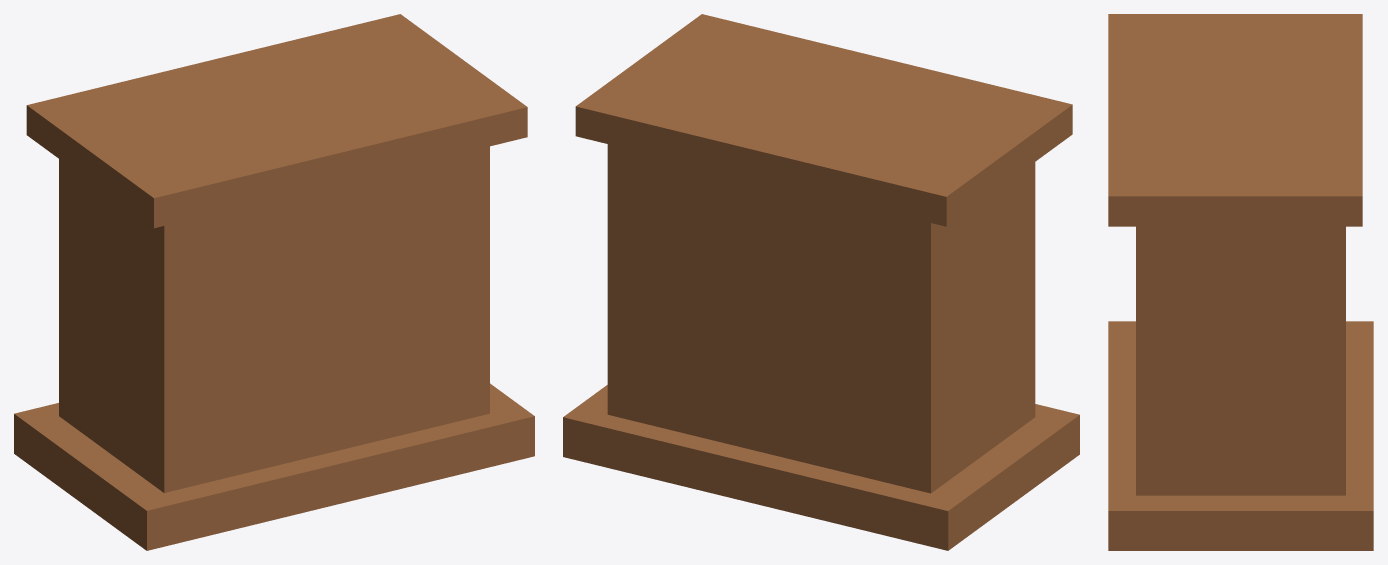
File: atril_prensa.glb
3 renders of one model, left to right at view 1: azimuth 30°, elevation 25°; view 2: azimuth 150°, elevation 25°; view 3: azimuth 270°, elevation 25°, orthographic.
Parts seen in each view (by area): view 1: atril_prensa; view 2: atril_prensa; view 3: atril_prensa.
Boxes of the visible parts, x1,y1,x2,y2 form: atril_prensa: (14, 14, 534, 550); atril_prensa: (563, 14, 1079, 550); atril_prensa: (1108, 14, 1373, 550).
Size of the model in its own units: 1.62 by 1.4 by 0.96.
